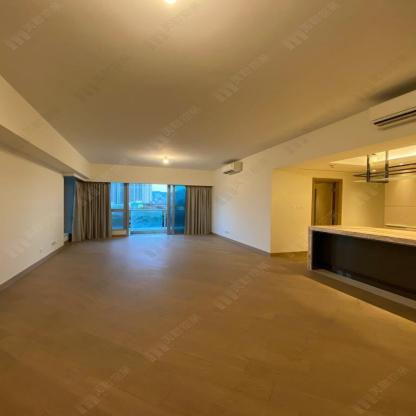AC: (221, 162, 242, 175)
